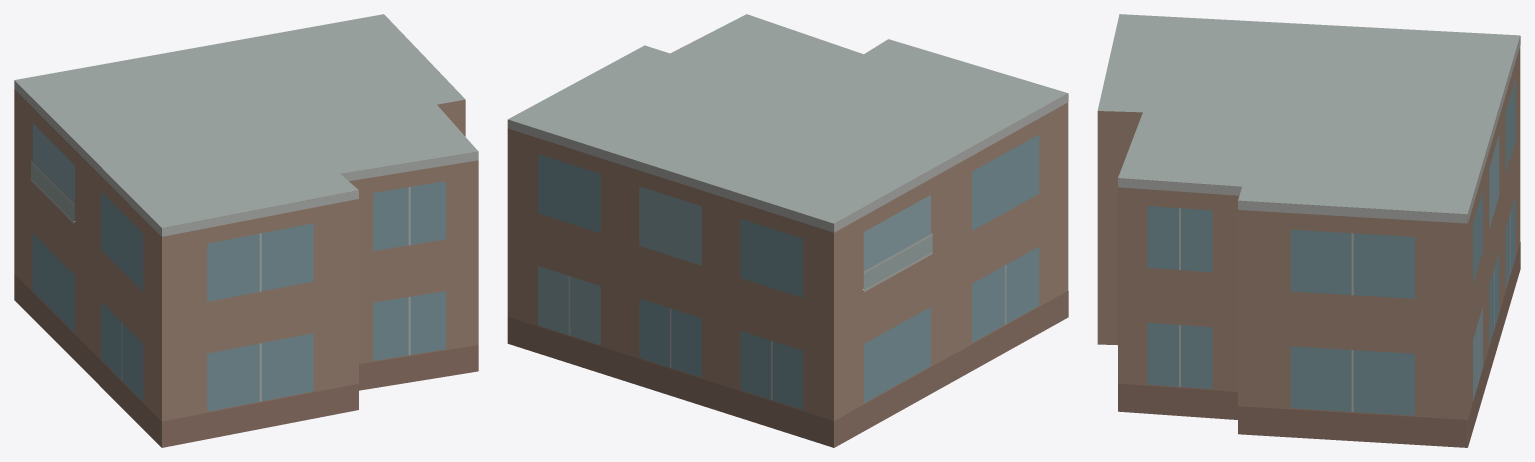
Rendered from survey-upis-32827730.glb.
The picture shows the model from 3 angles, left to right: view 1: azimuth 30°, elevation 25°; view 2: azimuth 150°, elevation 25°; view 3: azimuth 270°, elevation 25°; orthographic projection. The views are drawn at different scales.
Parts seen in each view (by area): view 1: survey-upis-32827730.tmp; view 2: survey-upis-32827730.tmp; view 3: survey-upis-32827730.tmp.
Boxes of the visible parts, x1=… form: survey-upis-32827730.tmp: x1=14, y1=14, x2=478, y2=447; survey-upis-32827730.tmp: x1=507, y1=14, x2=1068, y2=447; survey-upis-32827730.tmp: x1=1097, y1=14, x2=1520, y2=447.
Bounding box in the file's own units: 11.22 × 6.1 × 10.02.
